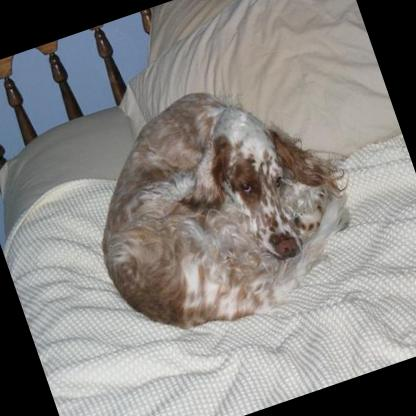English_setter: (54, 48, 374, 352)
